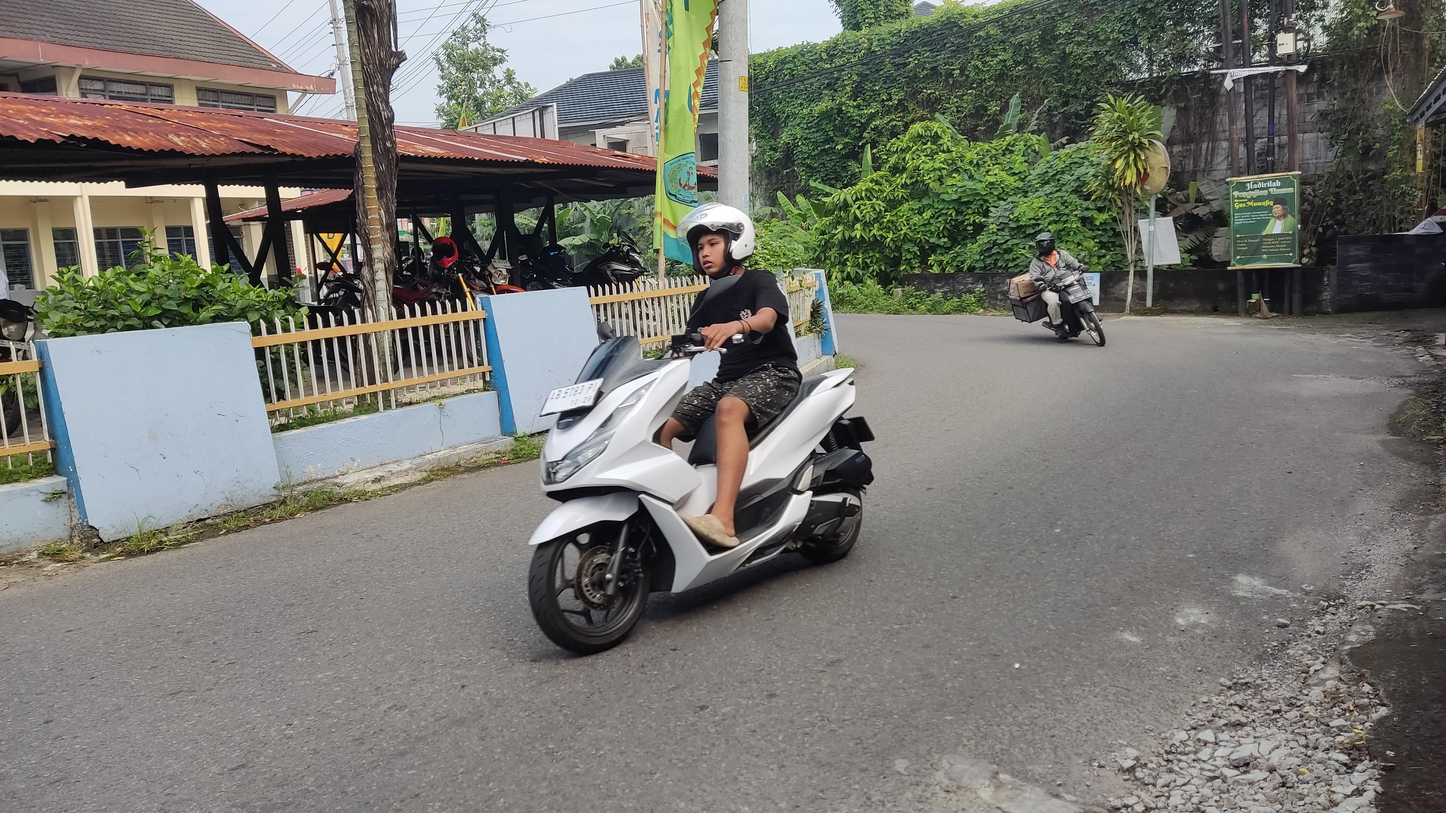helm: (670, 198, 770, 288)
riding: (521, 196, 886, 661)
